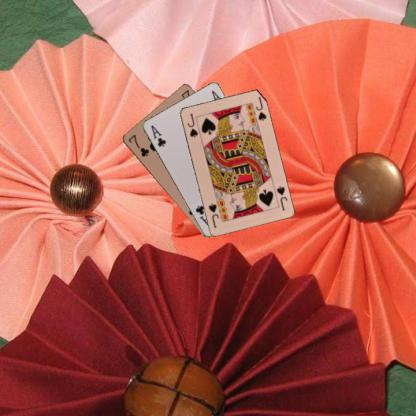7c: (126, 132, 150, 158)
Ac: (148, 122, 167, 148)
Js: (274, 183, 288, 212), (185, 111, 199, 139)
